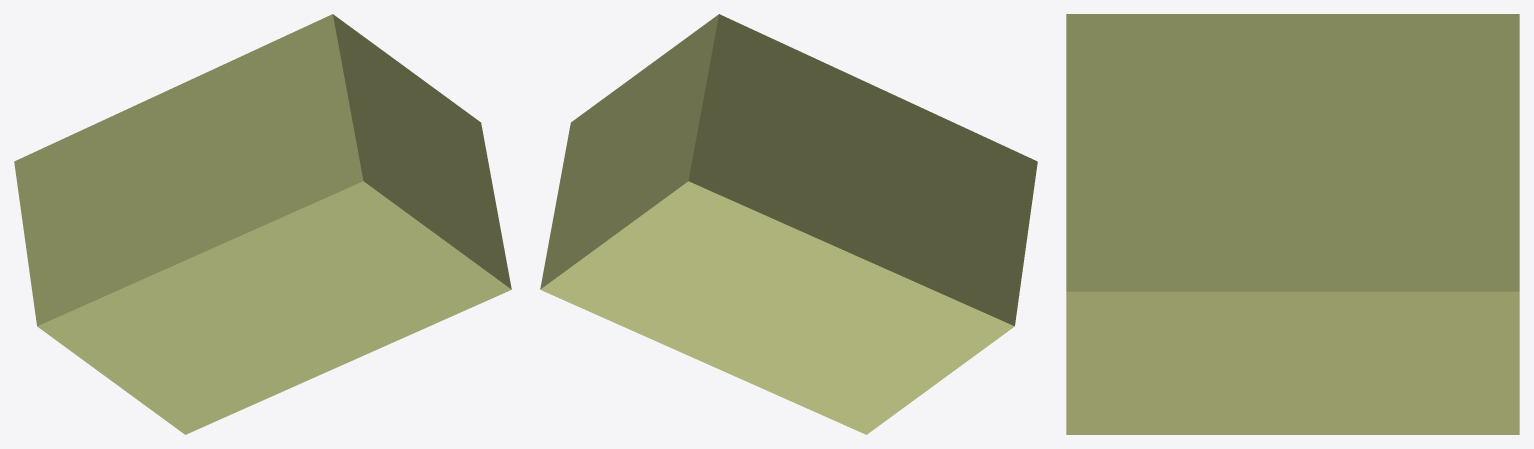
The picture shows the model from 3 angles, left to right: view 1: azimuth 30°, elevation 25°; view 2: azimuth 150°, elevation 25°; view 3: azimuth 270°, elevation 25°; orthographic projection. The views are drawn at different scales.
Visible parts, largest first — view 1: 0_2_2_0_0_0_2_2_2_0_0; view 2: 0_2_2_0_0_0_2_2_2_0_0; view 3: 0_2_2_0_0_0_2_2_2_0_0.
Boxes of the visible parts, x1,y1,x2,y2 form: 0_2_2_0_0_0_2_2_2_0_0: [14, 14, 511, 434]; 0_2_2_0_0_0_2_2_2_0_0: [540, 14, 1037, 434]; 0_2_2_0_0_0_2_2_2_0_0: [1066, 14, 1519, 434].
Size of the model in its own units: 8.16 by 5.36 by 6.
